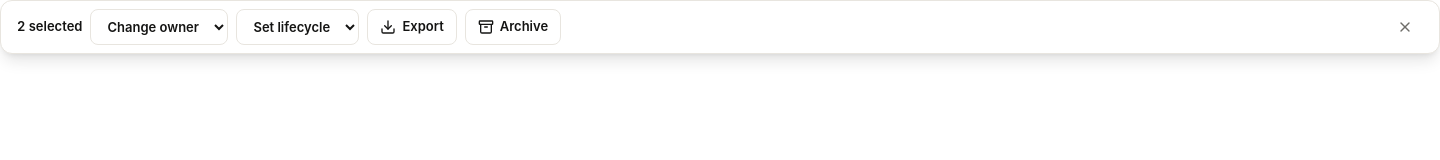
Test case: SelectionBar › drops an armed choice when the selection empties
Select "Priya" in the dropdown named "Change owner": (160, 27) [90,9,228,45]
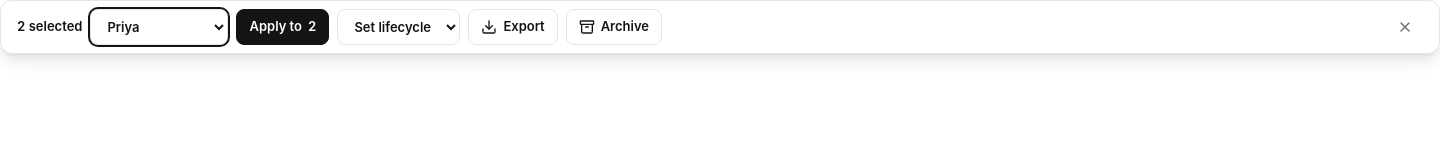
Expected: the button "Apply to 2" is shown, [236,9,329,45]
